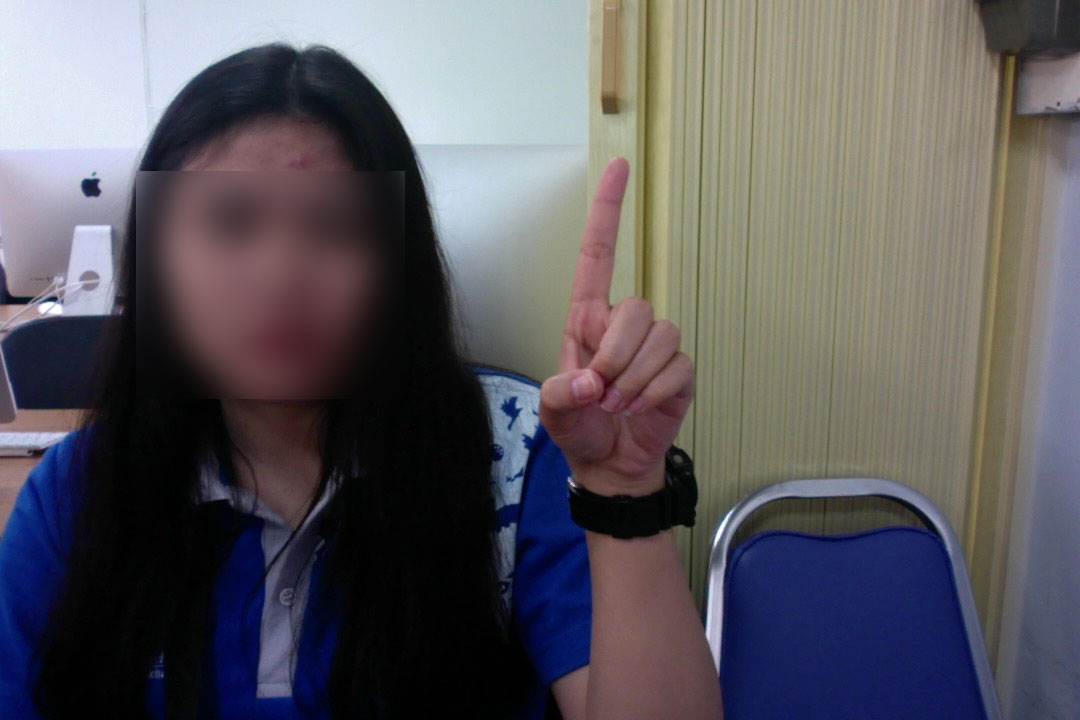dor: (525, 143, 703, 510)
